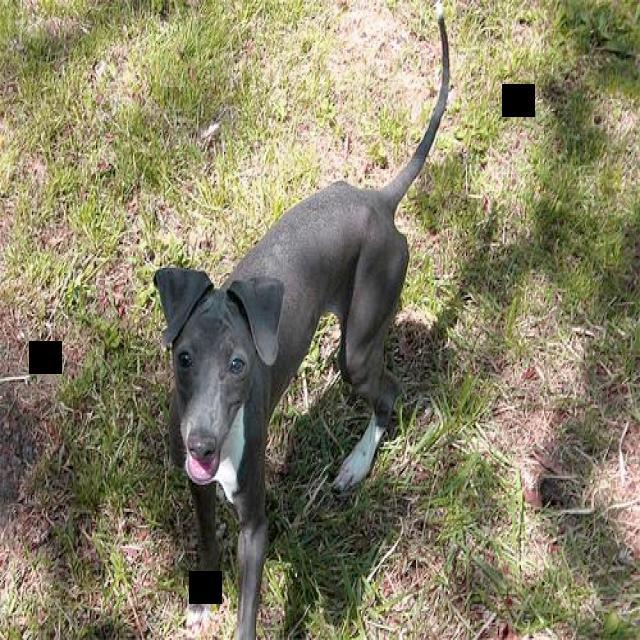puppy-dog: (146, 11, 453, 640)
